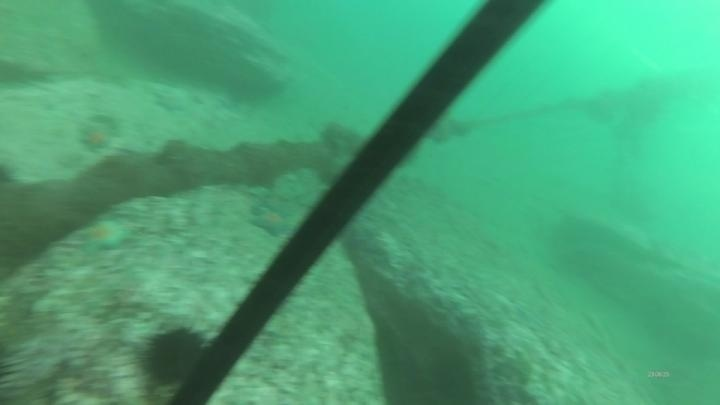echinus: (134, 323, 210, 391)
starfish: (74, 215, 137, 256), (247, 203, 296, 240), (75, 120, 119, 155), (149, 86, 193, 117)
